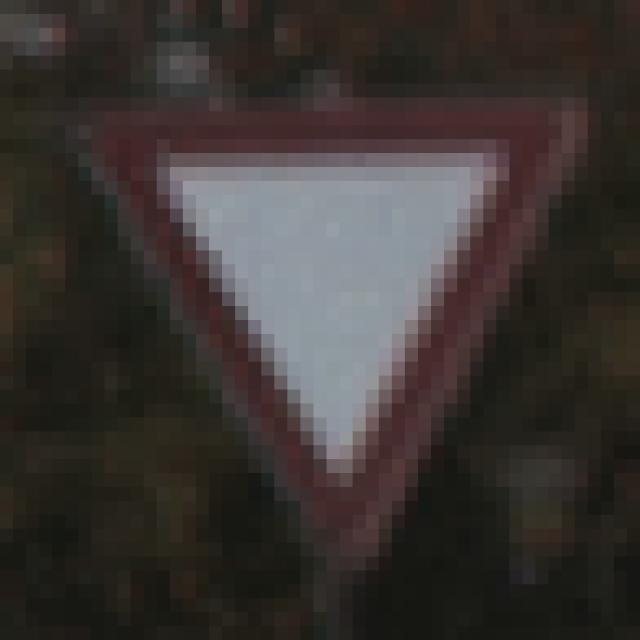Give Way: (79, 71, 576, 572)
